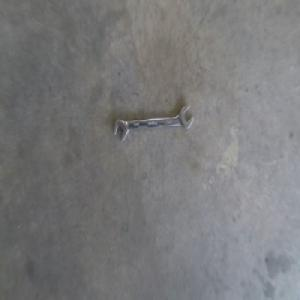Wrench: (109, 104, 197, 144)
